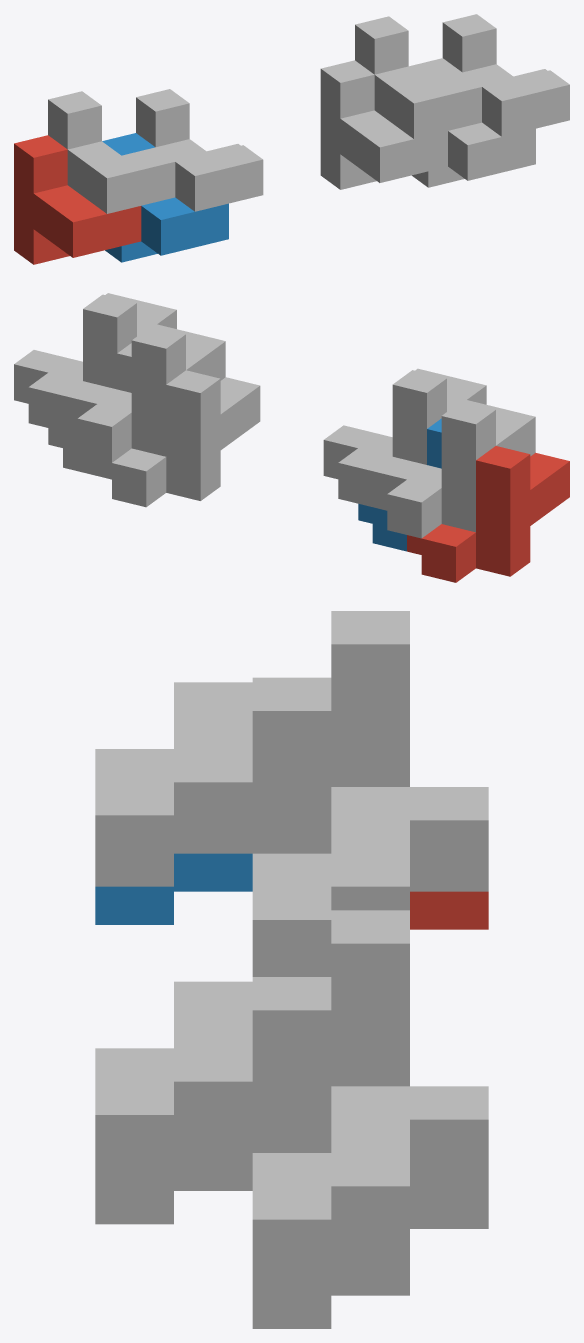
File: tiling.obj
3 views of the same model, one above another, from view 1: azimuth 30°, elevation 25°; view 2: azimuth 150°, elevation 25°; view 3: azimuth 270°, elevation 25° (orthographic). The views are drawn at different scales.
Visible parts, largest first — view 1: copy_1_domain_5, copy_1_domain_1, copy_1_domain_3, copy_1_domain_7, copy_1_domain_4, copy_1_domain_8, copy_1_domain_2, copy_1_domain_6; view 2: copy_1_domain_5, copy_1_domain_1, copy_1_domain_7, copy_1_domain_3, copy_1_domain_4, copy_1_domain_8, copy_1_domain_2, copy_1_domain_6; view 3: copy_1_domain_8, copy_1_domain_4, copy_1_domain_7, copy_1_domain_3, copy_1_domain_6, copy_1_domain_2, copy_1_domain_1, copy_1_domain_5.
Boxes of the visible parts, box(x1,y1,x2,y2) form: copy_1_domain_5: box(320, 60, 447, 189); copy_1_domain_1: box(14, 135, 141, 264); copy_1_domain_3: box(48, 91, 175, 213); copy_1_domain_7: box(355, 16, 481, 138); copy_1_domain_4: box(136, 89, 263, 211); copy_1_domain_8: box(442, 14, 569, 136); copy_1_domain_2: box(102, 133, 228, 262); copy_1_domain_6: box(409, 58, 535, 187); copy_1_domain_5: box(97, 370, 260, 507); copy_1_domain_1: box(407, 446, 569, 582); copy_1_domain_7: box(63, 324, 225, 462); copy_1_domain_3: box(372, 400, 535, 538); copy_1_domain_4: box(323, 368, 486, 506); copy_1_domain_8: box(14, 293, 176, 431); copy_1_domain_2: box(358, 418, 441, 551); copy_1_domain_6: box(48, 343, 131, 475); copy_1_domain_8: box(95, 977, 409, 1290); copy_1_domain_4: box(95, 677, 409, 976); copy_1_domain_7: box(174, 910, 488, 1190); copy_1_domain_3: box(174, 611, 488, 891); copy_1_domain_6: box(95, 1153, 409, 1328); copy_1_domain_2: box(95, 853, 252, 924); copy_1_domain_1: box(410, 891, 488, 929); copy_1_domain_5: box(410, 1191, 488, 1228).
Bounding box in the file's own units: 15 × 4 × 5.
